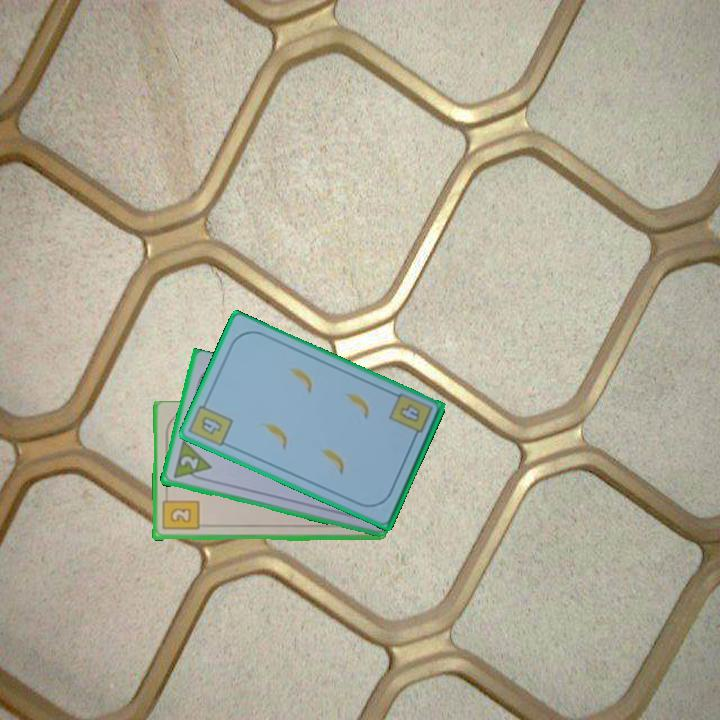2b: (159, 491, 201, 533)
2p: (176, 452, 201, 472)
4b: (186, 396, 236, 450), (395, 401, 423, 426)
